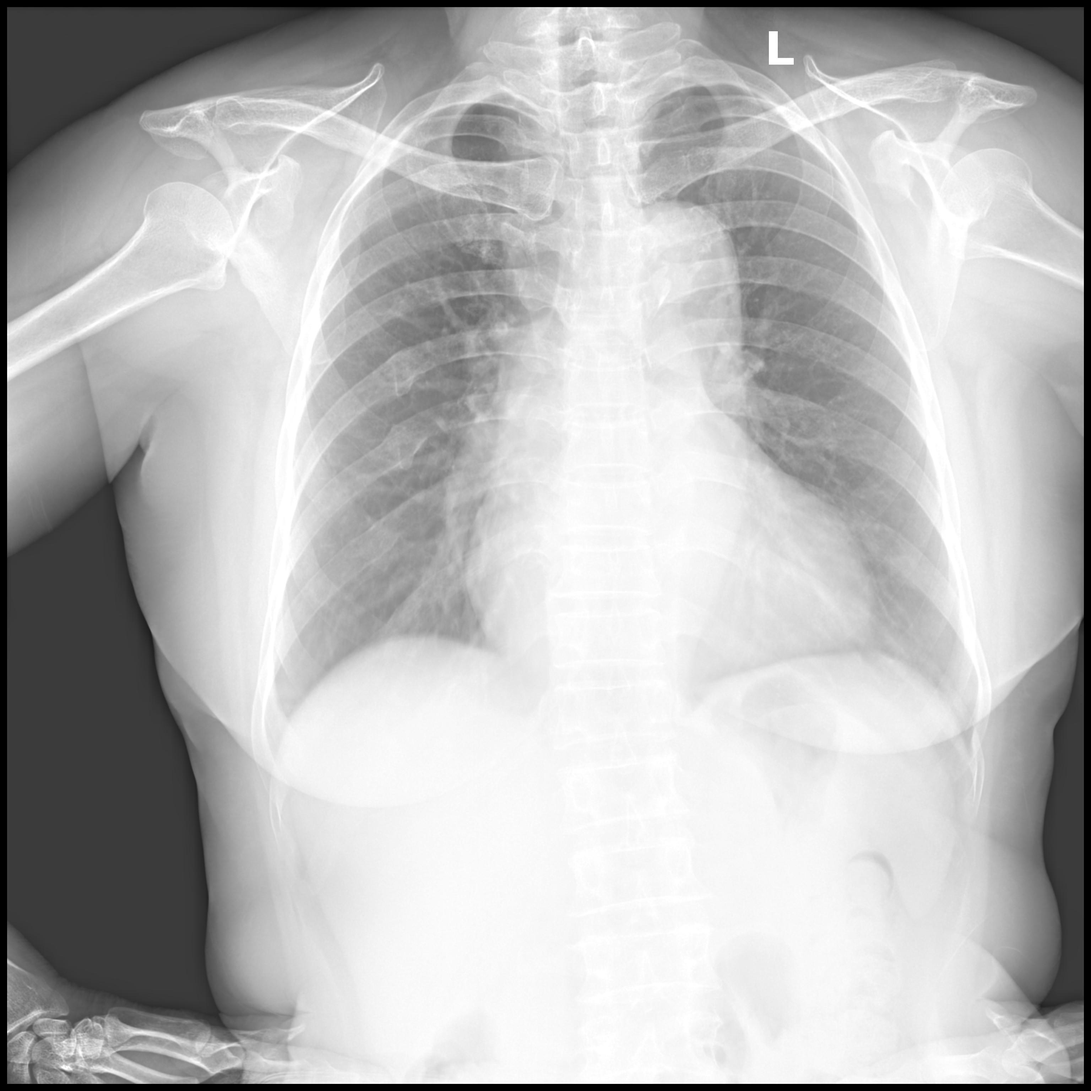Aortic enlargement: (610, 207, 739, 369)
Cardiomegaly: (458, 545, 876, 649)
